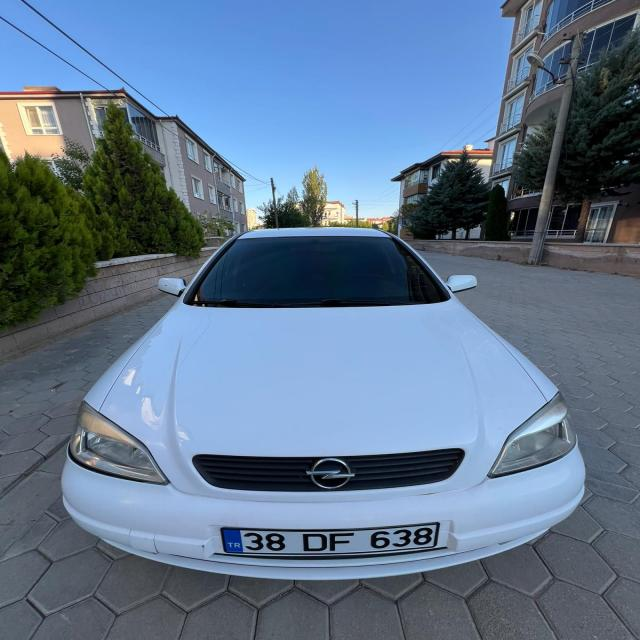opel: (305, 456, 358, 492)
